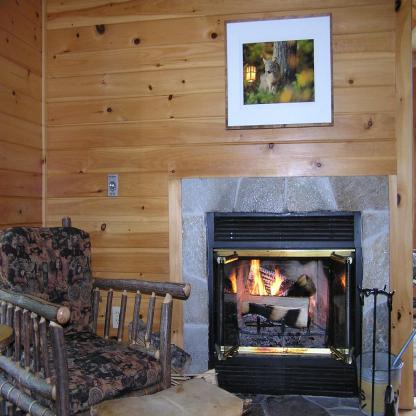Picture-frame: (225, 12, 337, 131)
